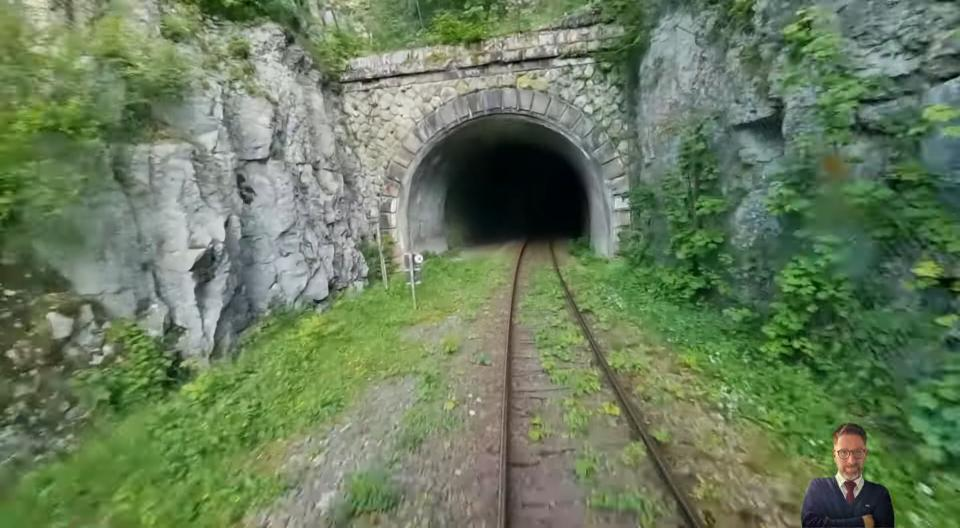Plant: (0, 256, 504, 528), (568, 250, 854, 475), (513, 265, 618, 443), (866, 436, 950, 528), (605, 333, 704, 410), (326, 467, 404, 528), (388, 407, 473, 462), (584, 485, 677, 528), (572, 441, 647, 483), (417, 366, 444, 402), (437, 331, 463, 361), (592, 309, 620, 331), (646, 425, 673, 446)
